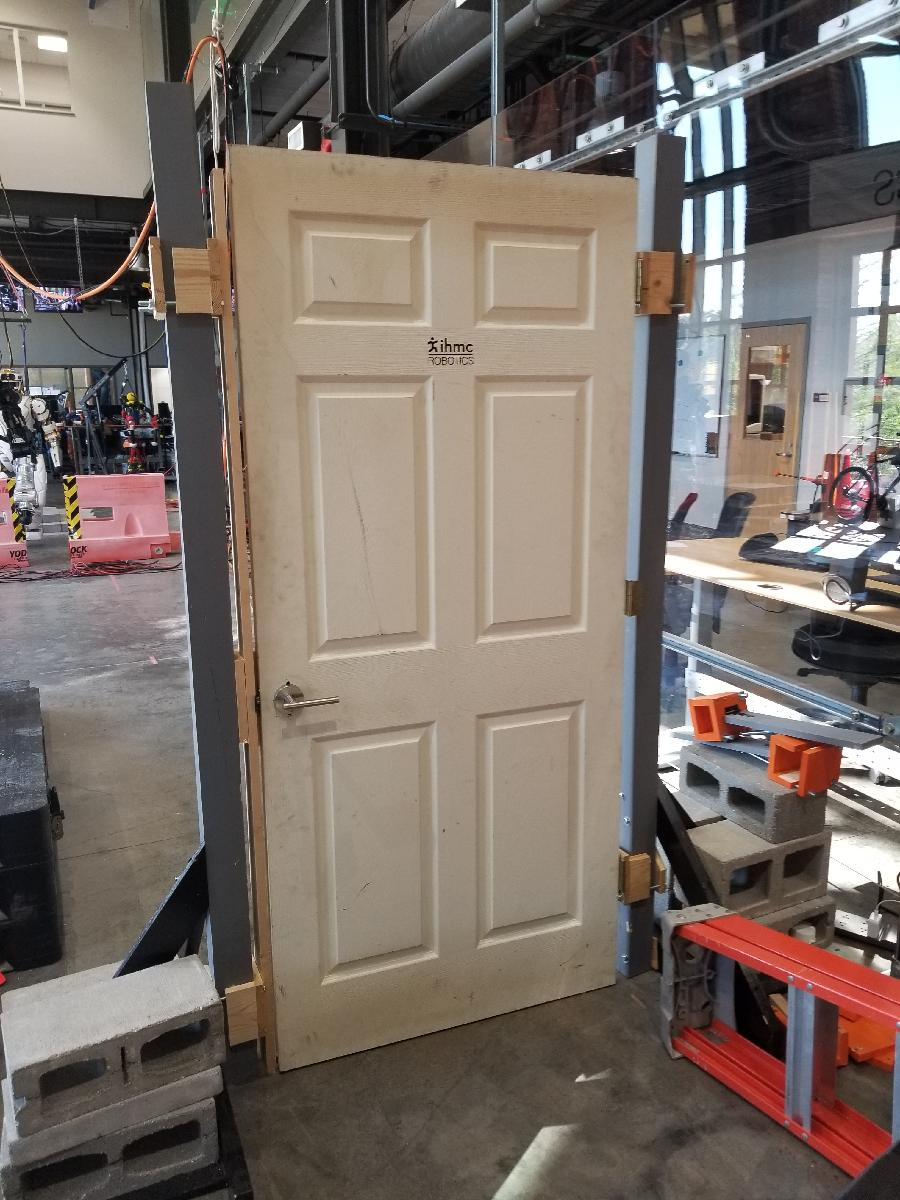door: (220, 140, 648, 1077)
doorHandle: (265, 679, 341, 724)
